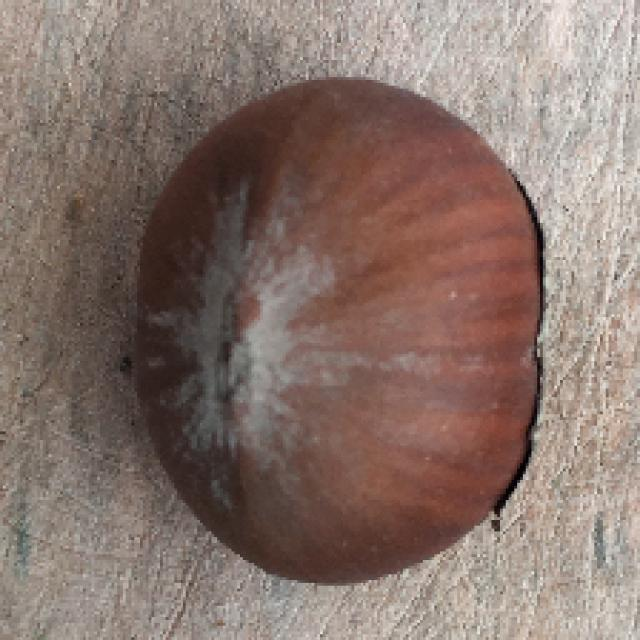DamagedHazelnut: (135, 76, 548, 585)
